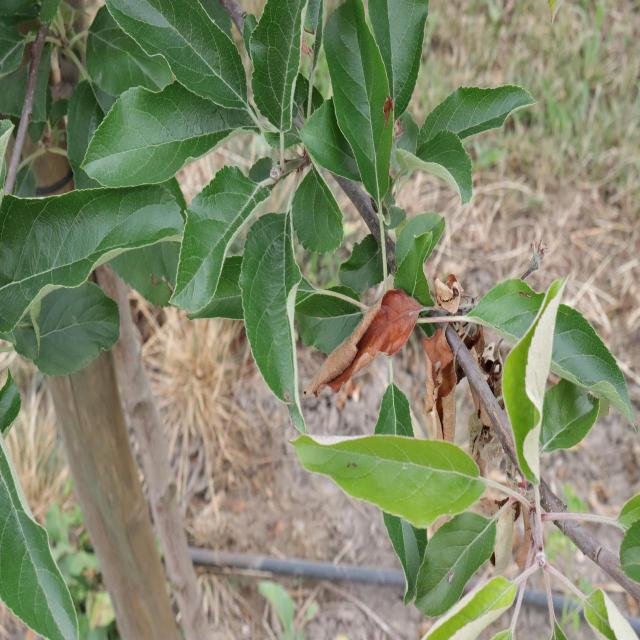-FireBlight-: (311, 278, 498, 431)
